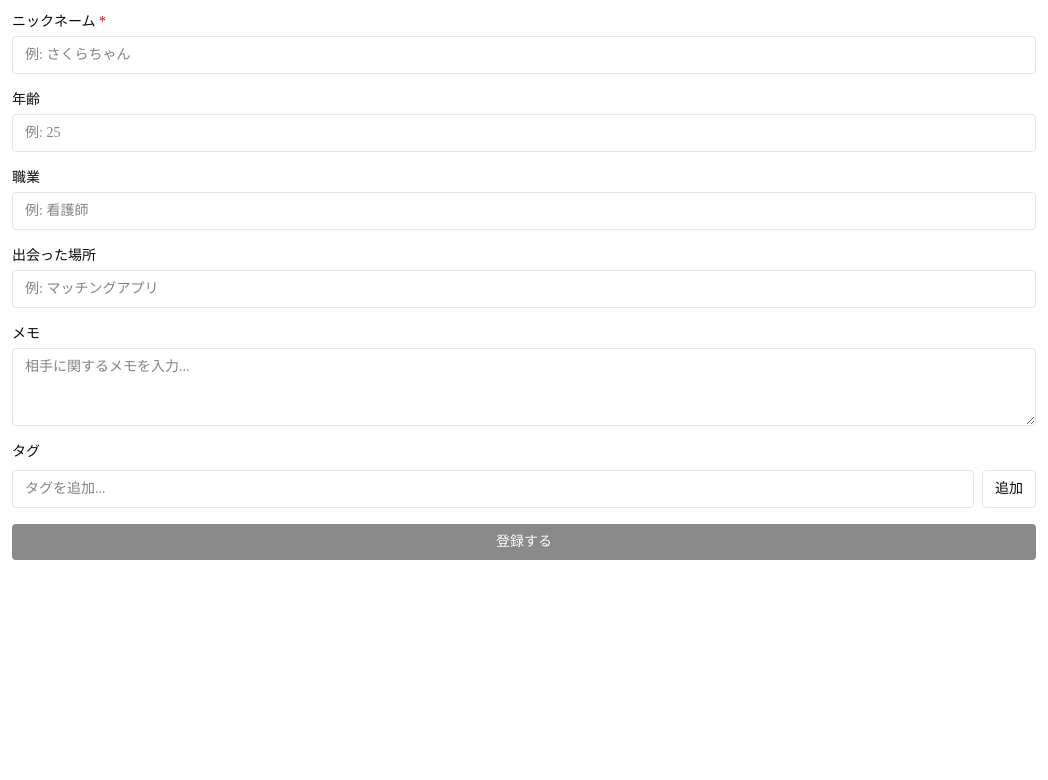
Scenario: PartnerForm › tag management › can remove a tag via × button
Type "優しい" into the field with placeholder "タグを追加..." at (493, 489), box [12, 470, 974, 508]
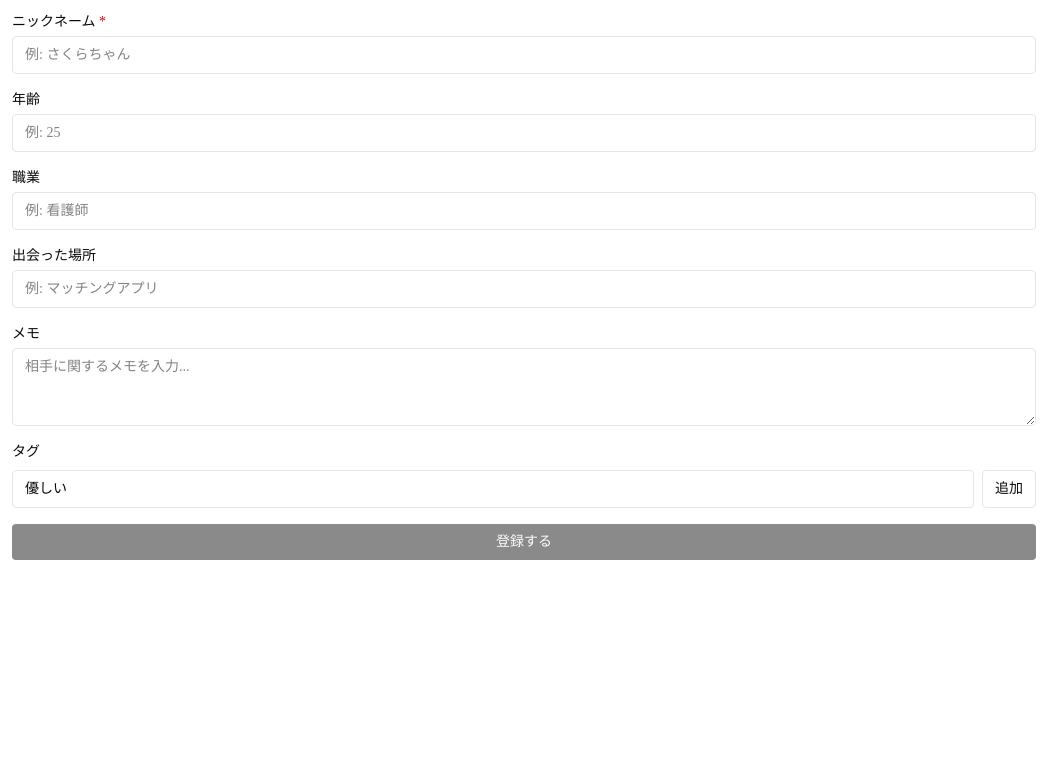
Click the button "追加" at (1009, 489), box [982, 470, 1036, 508]
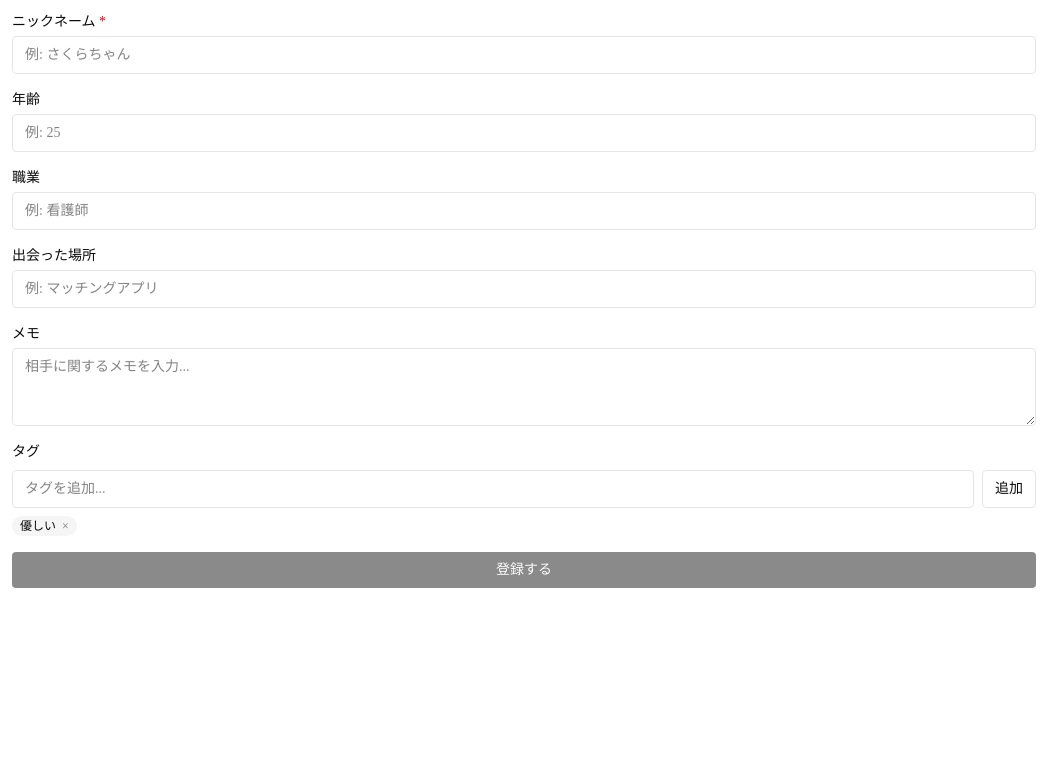
Check: the text "優しい" is shown, box [20, 519, 56, 533]
Click the button named "優しい を削除" at (65, 526), box [62, 518, 69, 534]
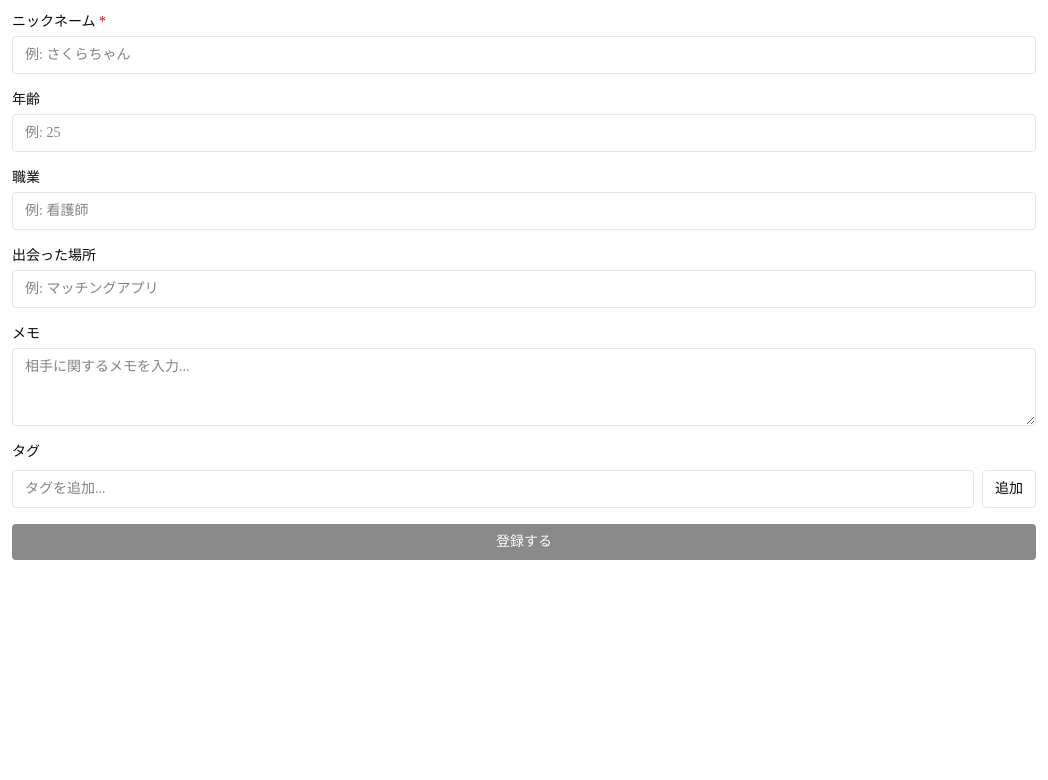
Check: the text "優しい" is gone
